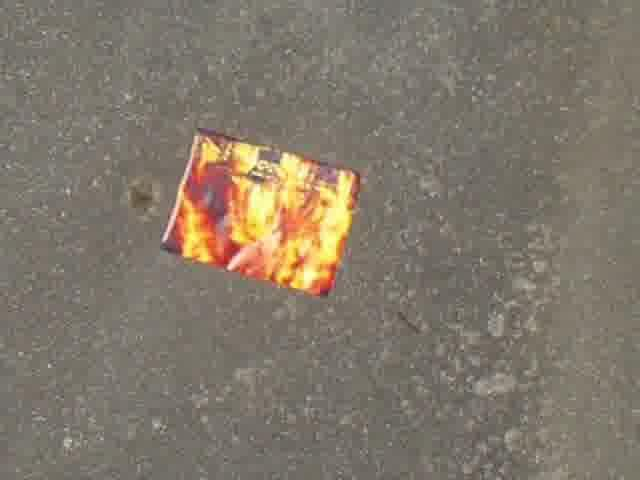fire-poster: (162, 128, 360, 302)
